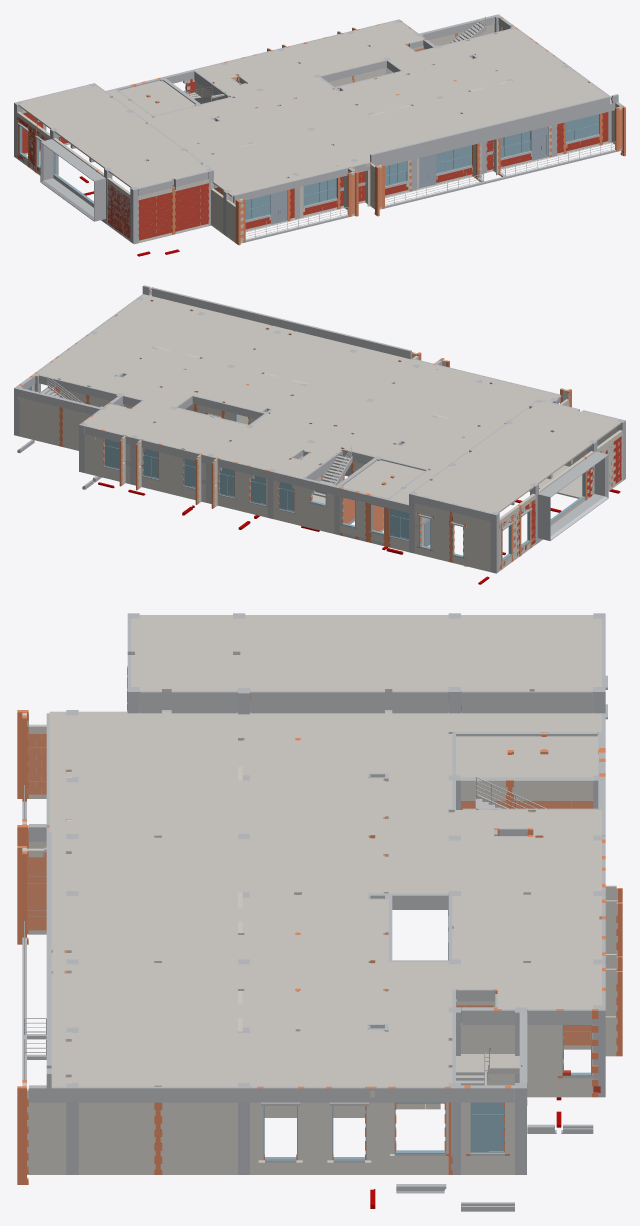
3 views of the same model, one above another, from view 1: azimuth 30°, elevation 25°; view 2: azimuth 150°, elevation 25°; view 3: azimuth 270°, elevation 25° (orthographic). The views are drawn at different scales.
Parts seen in each view (by area): view 1: C_B.001, C_L.001, C_QC__T250.001, C_Q.001, C_W.001, C_Z.001, C_GZ.001, C_QT.001, C_M.001, C_QC_F0.001, C_QC__T200.001; view 2: C_B.001, C_Q.001, C_L.001, C_Z.001, C_W.001, C_GZ.001, C_QC__T250.001, C_QT.001, C_QC_F1.001, C_QC__T200.001, C_GL.001; view 3: C_B.001, C_Q.001, C_L.001, C_Z.001, C_GZ.001, C_QC__T200.001, C_W.001, C_QC_F1.001, C_QT.001.
Boxes of the visible parts, left/top/right/bottom form: C_B.001: left=18, top=21, right=611, bottom=244; C_L.001: left=18, top=15, right=622, bottom=242; C_QC__T250.001: left=17, top=79, right=608, bottom=240; C_Q.001: left=17, top=24, right=622, bottom=243; C_W.001: left=19, top=28, right=599, bottom=220; C_Z.001: left=14, top=14, right=611, bottom=243; C_GZ.001: left=18, top=17, right=625, bottom=245; C_QT.001: left=186, top=16, right=615, bottom=238; C_M.001: left=270, top=126, right=548, bottom=224; C_QC_F0.001: left=22, top=141, right=621, bottom=243; C_QC__T200.001: left=211, top=48, right=622, bottom=237; C_B.001: left=37, top=294, right=620, bottom=512; C_Q.001: left=19, top=346, right=622, bottom=571; C_L.001: left=17, top=285, right=619, bottom=563; C_Z.001: left=14, top=297, right=625, bottom=573; C_W.001: left=28, top=387, right=585, bottom=561; C_GZ.001: left=18, top=287, right=587, bottom=569; C_QC__T250.001: left=54, top=387, right=621, bottom=568; C_QT.001: left=39, top=376, right=352, bottom=497; C_QC_F1.001: left=17, top=300, right=489, bottom=505; C_QC__T200.001: left=205, top=412, right=383, bottom=531; C_GL.001: left=98, top=482, right=620, bottom=584; C_B.001: left=49, top=615, right=601, bottom=1087; C_Q.001: left=22, top=693, right=617, bottom=1174; C_L.001: left=22, top=618, right=607, bottom=1211; C_Z.001: left=66, top=613, right=605, bottom=1174; C_GZ.001: left=17, top=666, right=622, bottom=1184; C_QC__T200.001: left=27, top=734, right=593, bottom=1170; C_W.001: left=263, top=693, right=591, bottom=1160; C_QC_F1.001: left=28, top=726, right=616, bottom=1109; C_QT.001: left=24, top=776, right=546, bottom=1160.
Bounding box in the file's own units: 45 × 6.55 × 24.7.
